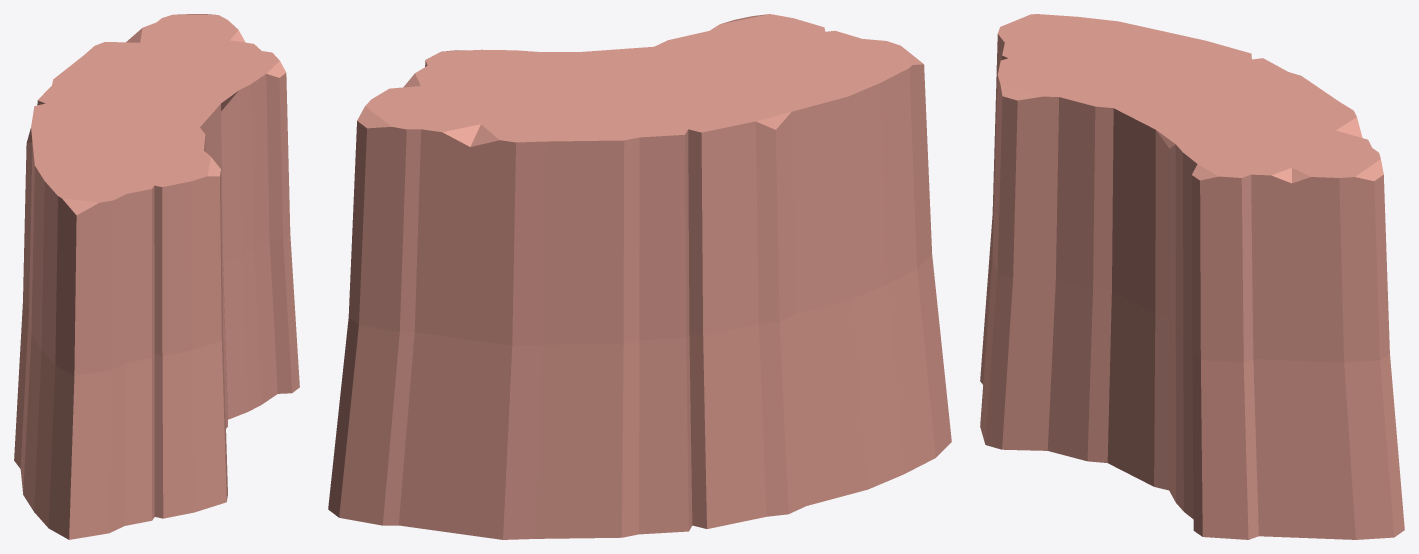
The model's file is SuperGrid_RingQuarter_024_Vlad.fbx.
The picture shows the model from 3 angles, left to right: view 1: azimuth 30°, elevation 25°; view 2: azimuth 150°, elevation 25°; view 3: azimuth 270°, elevation 25°; orthographic projection. The views are drawn at different scales.
Visible parts, largest first — view 1: SuperGrid_RingQuarter.024; view 2: SuperGrid_RingQuarter.024; view 3: SuperGrid_RingQuarter.024.
Part boxes in pixels (x1=…): SuperGrid_RingQuarter.024: x1=14, y1=14, x2=299, y2=539; SuperGrid_RingQuarter.024: x1=328, y1=14, x2=951, y2=539; SuperGrid_RingQuarter.024: x1=980, y1=14, x2=1404, y2=539.
Size of the model in its own units: 547 by 500 by 544.
